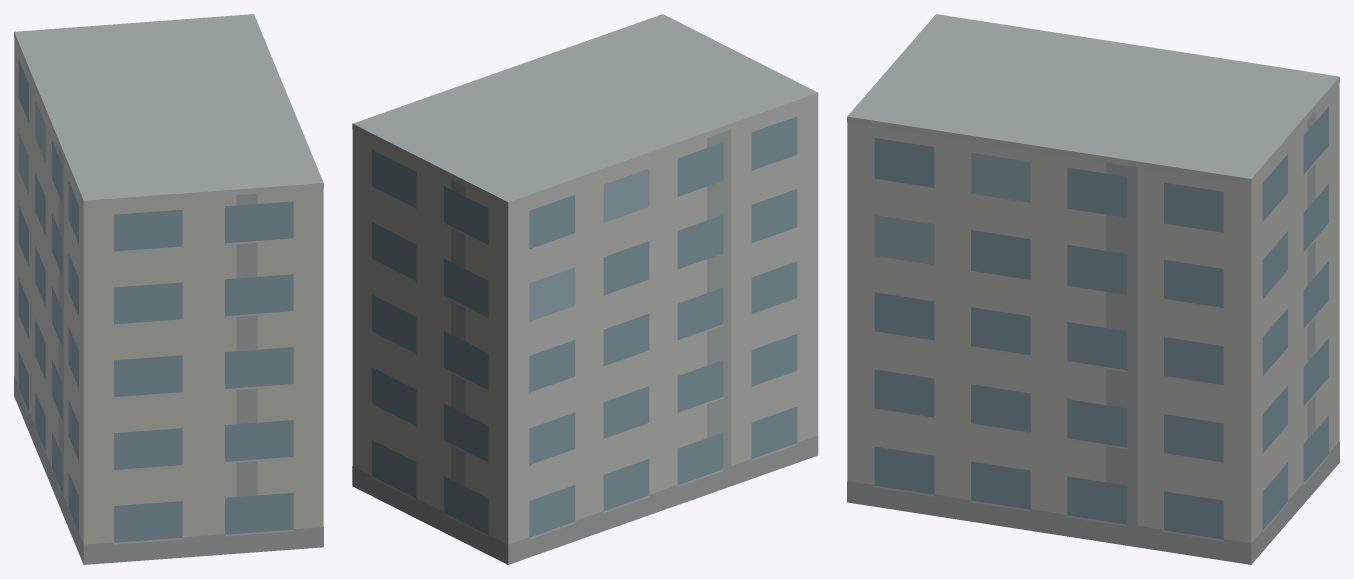
The model's file is residential-3309d2c7-d5b7-4230-8efb-6de5167089fe.glb.
3 renders of one model, left to right at view 1: azimuth 30°, elevation 25°; view 2: azimuth 150°, elevation 25°; view 3: azimuth 270°, elevation 25°, orthographic. The views are drawn at different scales.
Parts seen in each view (by area): view 1: residential-3309d2c7-d5b7-4230-8efb-6de5167089fe.tmp; view 2: residential-3309d2c7-d5b7-4230-8efb-6de5167089fe.tmp; view 3: residential-3309d2c7-d5b7-4230-8efb-6de5167089fe.tmp.
Part boxes in pixels (x1,y1,x2,y2): residential-3309d2c7-d5b7-4230-8efb-6de5167089fe.tmp: [14, 14, 323, 564]; residential-3309d2c7-d5b7-4230-8efb-6de5167089fe.tmp: [352, 14, 818, 564]; residential-3309d2c7-d5b7-4230-8efb-6de5167089fe.tmp: [847, 14, 1339, 564].
Size of the model in its own units: 13.99 by 15.25 by 17.66.
